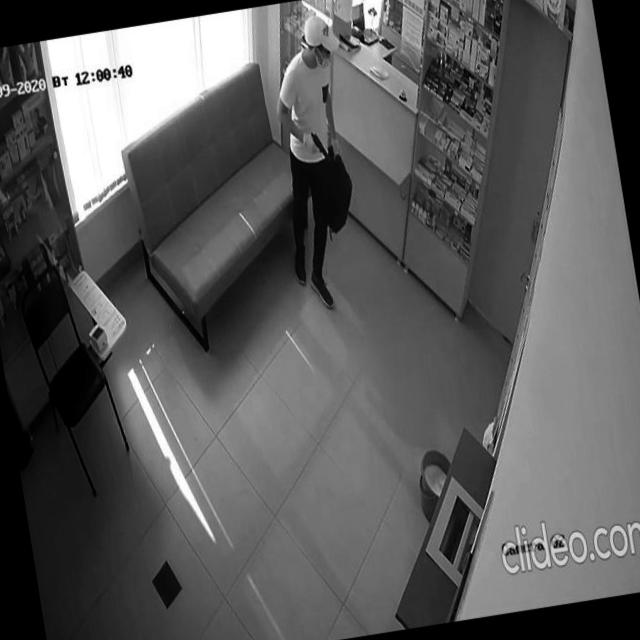gun: (308, 126, 334, 169)
person with a gun: (255, 11, 382, 316)
